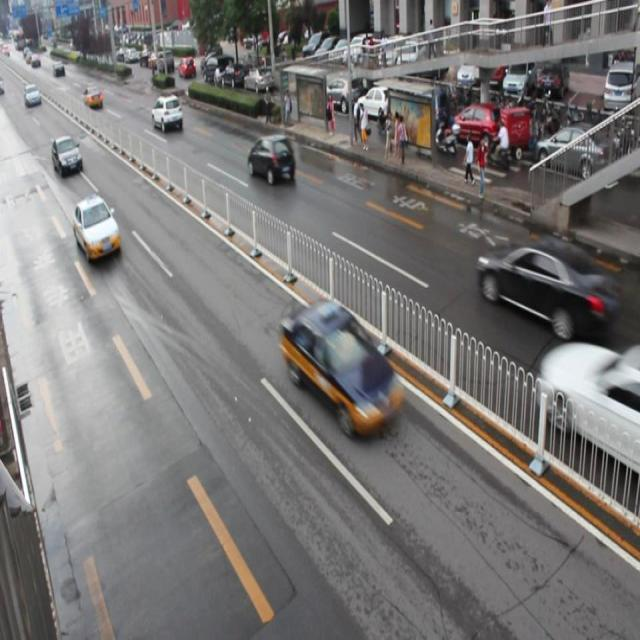car: (280, 300, 403, 434), (477, 232, 612, 343), (538, 338, 640, 470), (73, 194, 121, 261), (248, 132, 296, 186), (52, 134, 84, 178), (151, 92, 184, 133)
